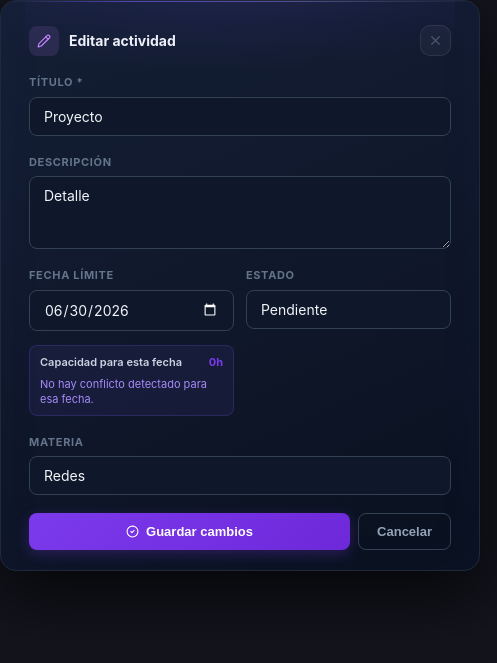
EditActivityForm › muestra un error cuando el guardado falla
Click the button with test id "edit-activity-save-btn" at (190, 532), box 29,513 -> 350,550
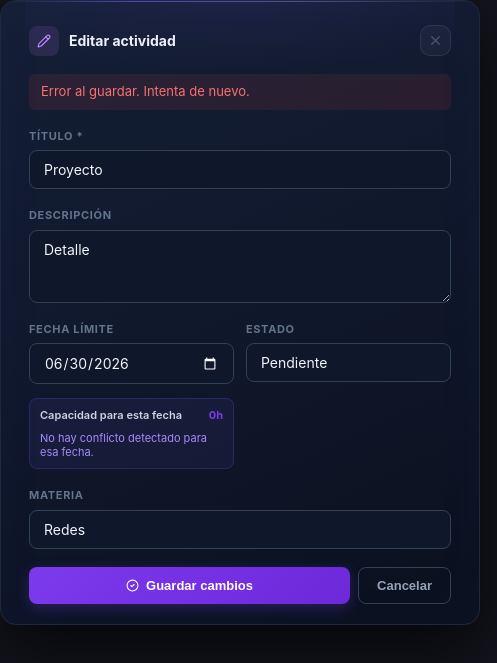
Now the text "Error al guardar. Intenta de nuevo." is shown, box 29,74 -> 451,110
